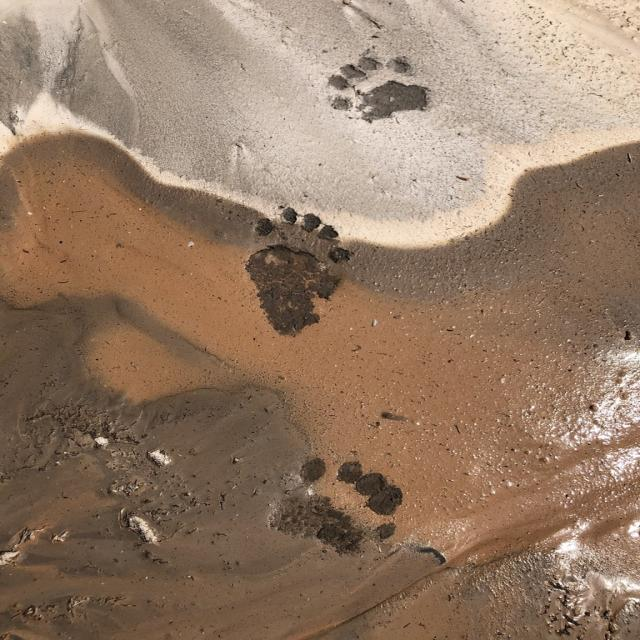bear: (254, 206, 348, 339), (280, 458, 400, 562), (330, 53, 432, 124)
